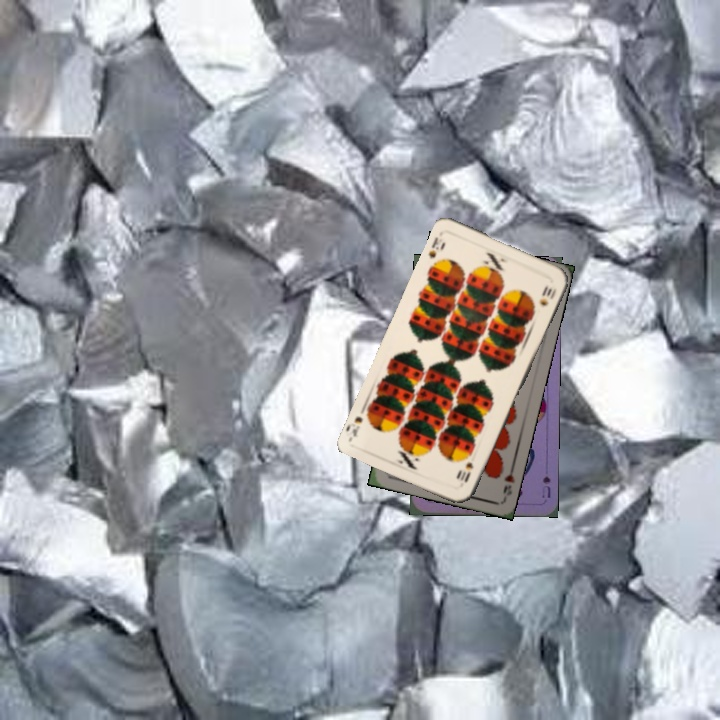H9: (499, 461, 517, 498)
S10: (424, 229, 445, 262), (456, 458, 476, 485)
SU: (538, 472, 553, 501)
